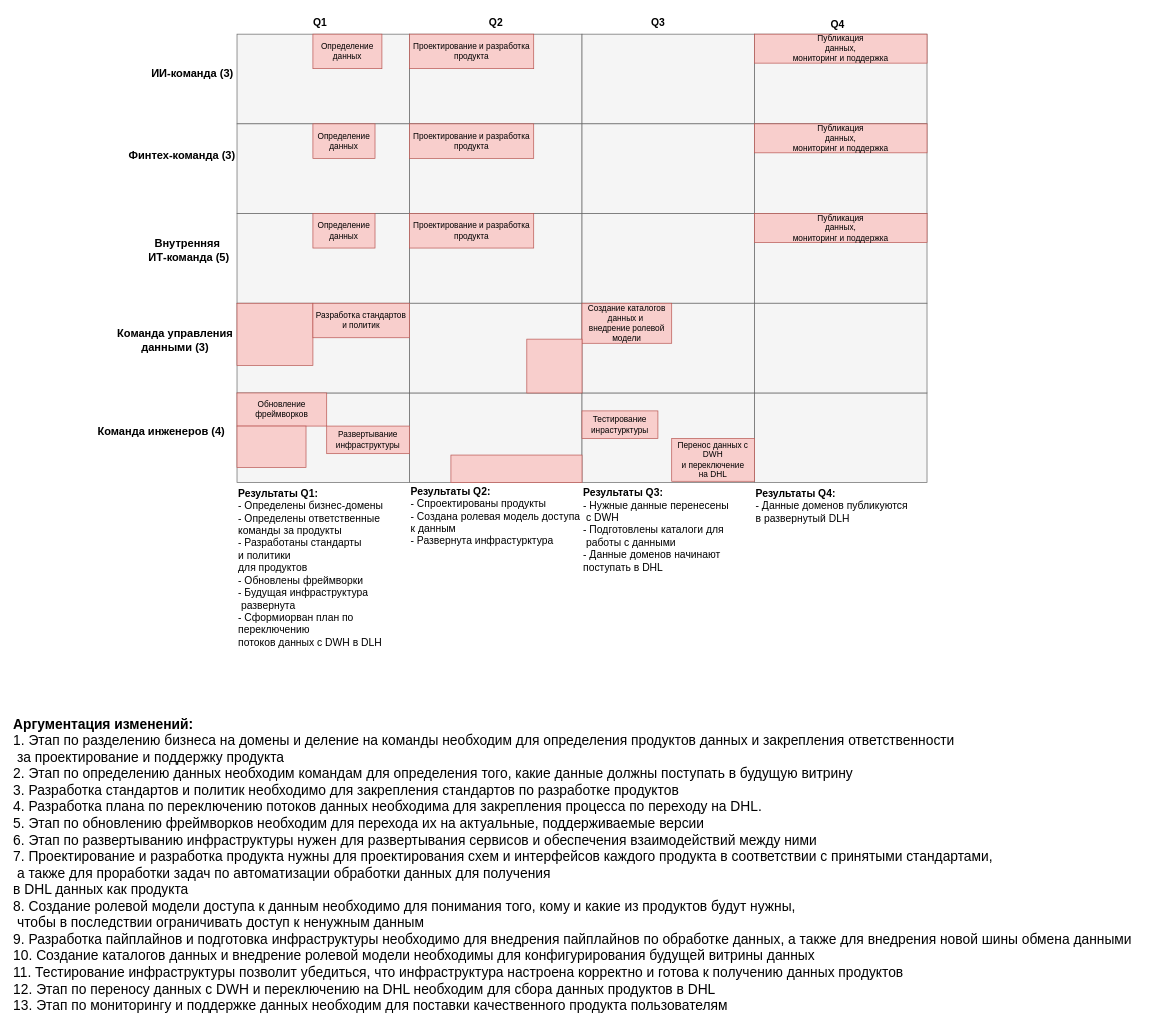
Image size: 1155x1031. Some labels were removed from this diagram. Here are the shapes that lost their labels. From the top down, the box of each, then its label:
(236, 303, 313, 365): Разделение бизнеса на домены и деление на команды, закрепление ответственных
(526, 338, 582, 393): Создание ролевой модели доступа к данным
(236, 425, 306, 467): Разработка плана по переключению с DWH в DLH
(450, 454, 582, 483): Разработка пайплайнов и подготовка инфрастурктуры
